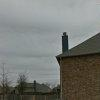Chimney: (55, 26, 74, 53)
